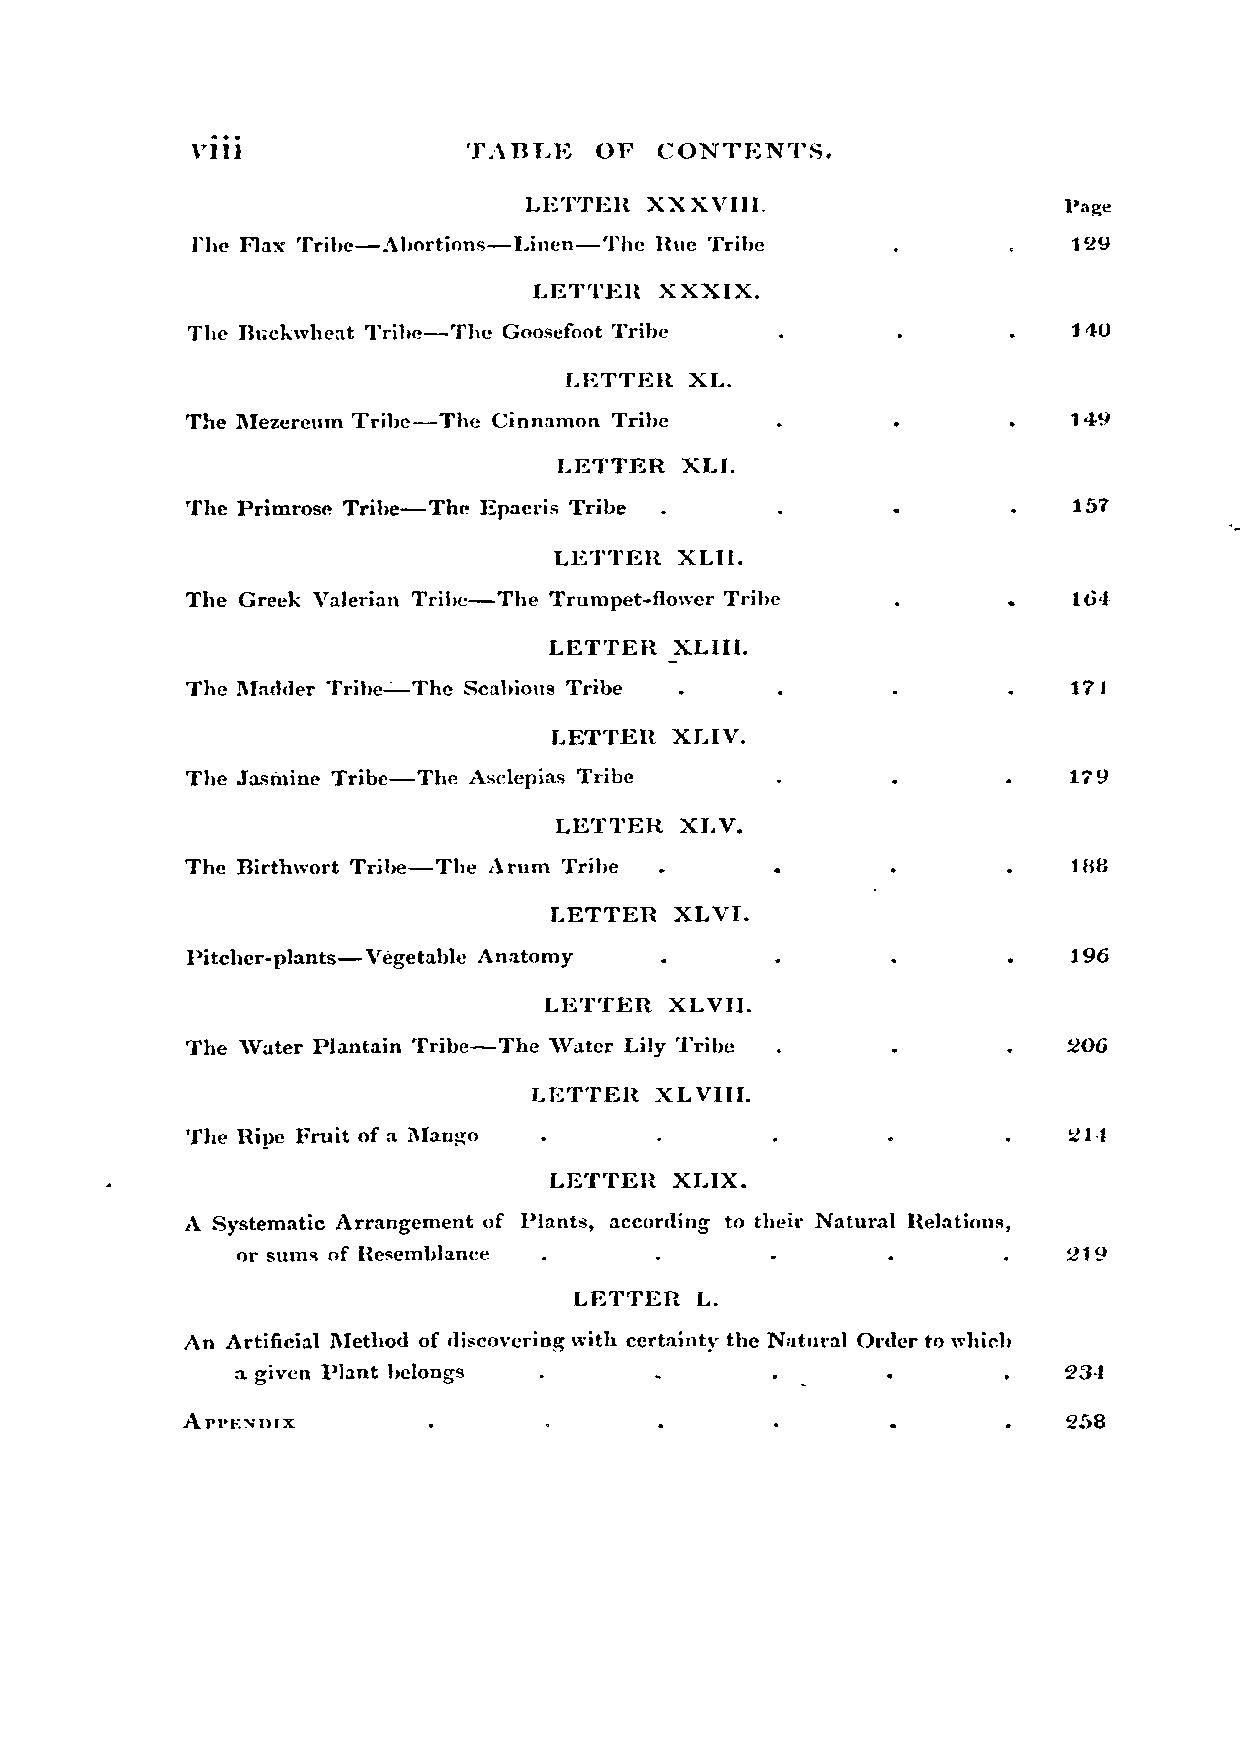TOC_chapter: (180, 1206, 1015, 1274), (166, 1326, 1019, 1390), (170, 578, 778, 615), (178, 1029, 738, 1066), (178, 221, 765, 254), (176, 311, 688, 348), (170, 756, 641, 792), (178, 488, 644, 525), (178, 404, 680, 436), (180, 939, 580, 977), (178, 672, 628, 705), (176, 845, 624, 878), (176, 1118, 491, 1154), (519, 185, 768, 225), (521, 267, 765, 305), (523, 1078, 758, 1113), (535, 718, 750, 754), (544, 1161, 754, 1197), (546, 807, 754, 841), (552, 443, 735, 480), (542, 985, 754, 1017), (560, 360, 739, 397), (546, 628, 756, 660), (535, 896, 754, 925), (549, 539, 747, 570), (574, 1286, 722, 1317), (178, 1408, 303, 1437)
TOC_pagenumber: (1063, 841, 1117, 882), (1066, 305, 1117, 342), (1068, 747, 1113, 790), (1066, 667, 1117, 703), (1062, 1027, 1113, 1062), (1066, 397, 1118, 431), (1062, 1406, 1118, 1435), (1068, 487, 1117, 519), (1066, 1118, 1111, 1150), (1062, 1355, 1108, 1385), (1070, 580, 1113, 612), (1062, 1237, 1113, 1264), (1066, 229, 1114, 258), (1063, 939, 1113, 966)
chapter: (462, 133, 831, 162)
